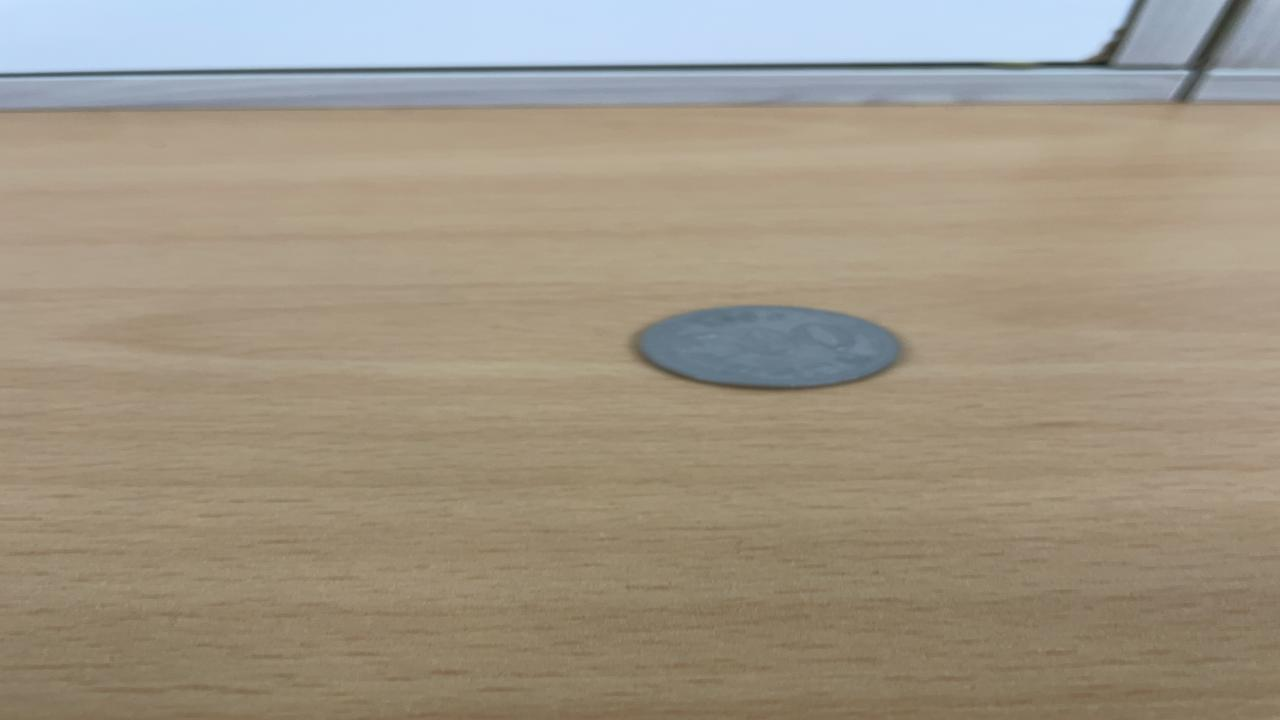coin: (633, 303, 905, 391)
